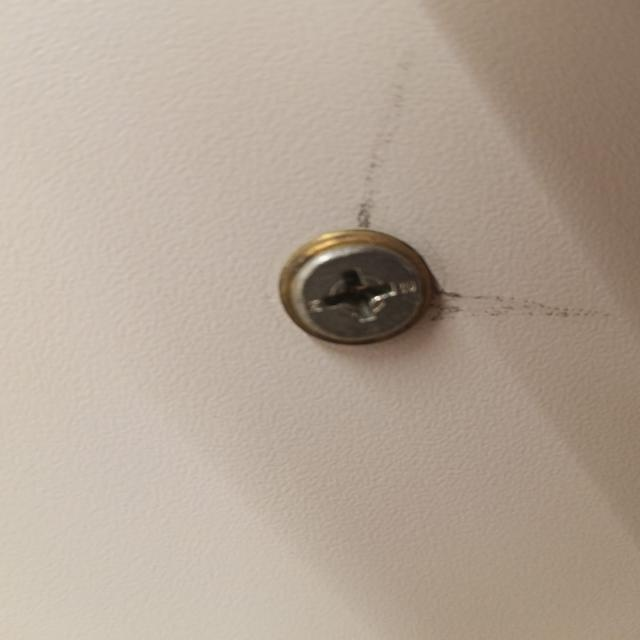phillips: (290, 243, 423, 345)
